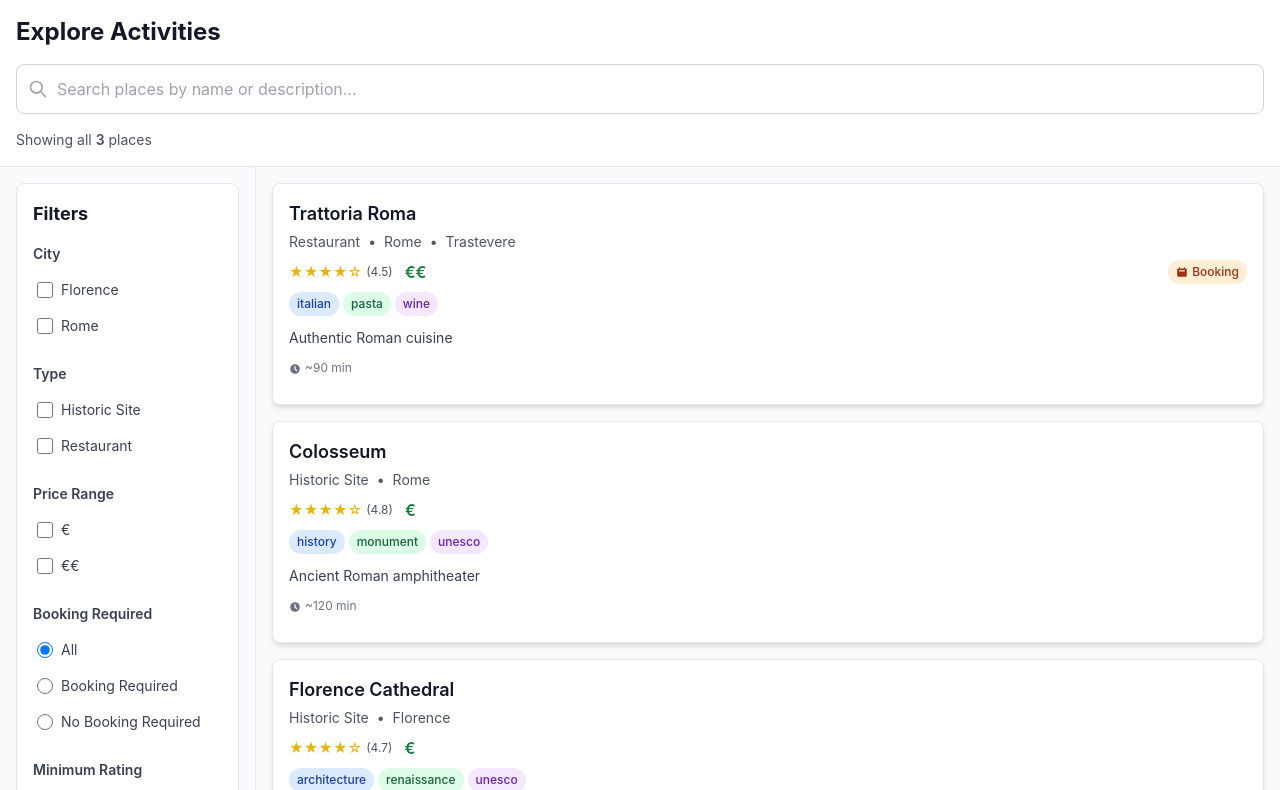
Test case: PlaceExplorer › PlaceList Integration › should show empty state when no places match filters
Expected: the heading "Trattoria Roma" is shown, [289,203,416,224]
Type "nonexistent place xyz" into the field with placeholder "Search places by name or description...".
click(640, 89); type("nonexistent place xyz")  # box [16,64,1264,114]
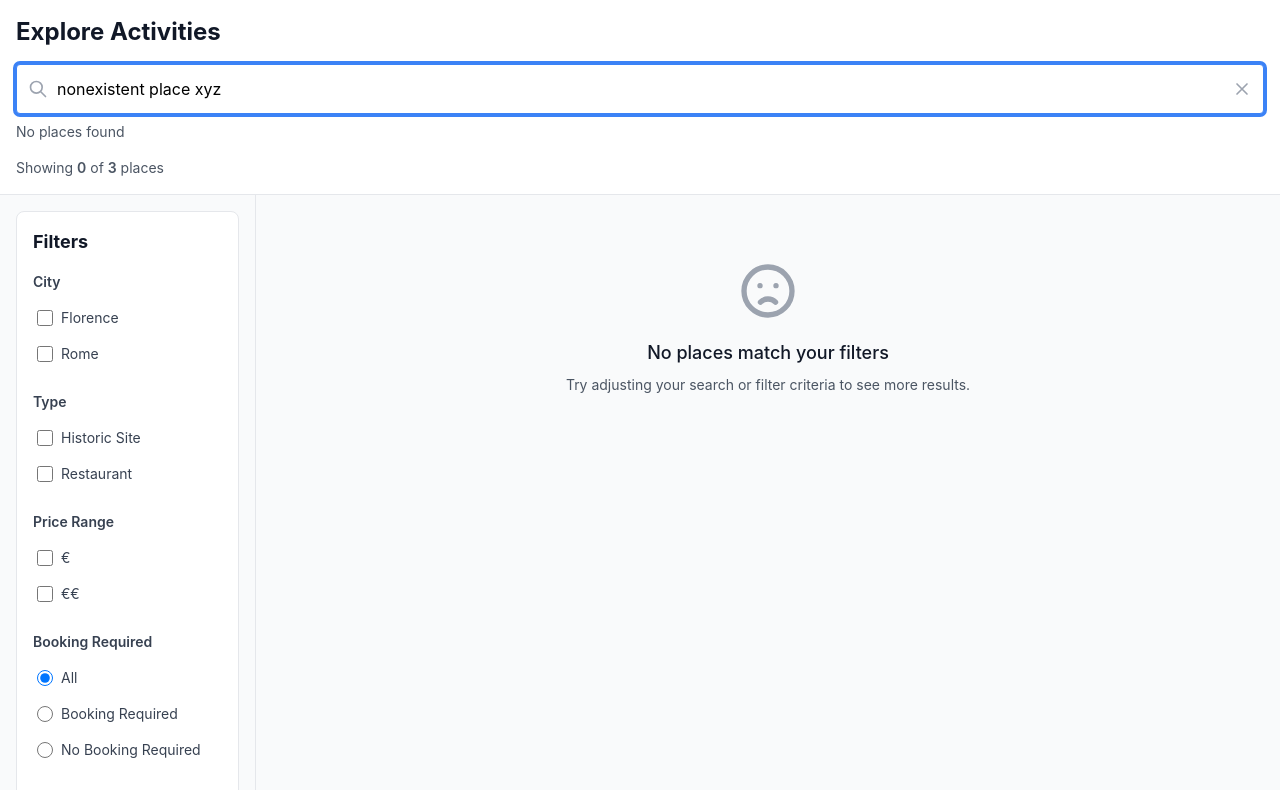
Expected: the heading "No places match your filters" is shown, [647,339,889,367]
Expected: the text "Try adjusting your search or filter criteria" is shown, [566,376,970,393]
